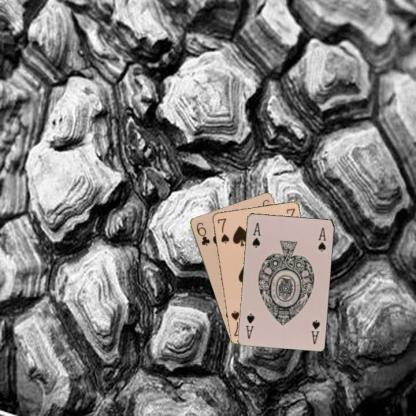6c: (193, 219, 211, 247)
7s: (215, 216, 230, 245)
As: (250, 219, 262, 249), (309, 317, 320, 346)
